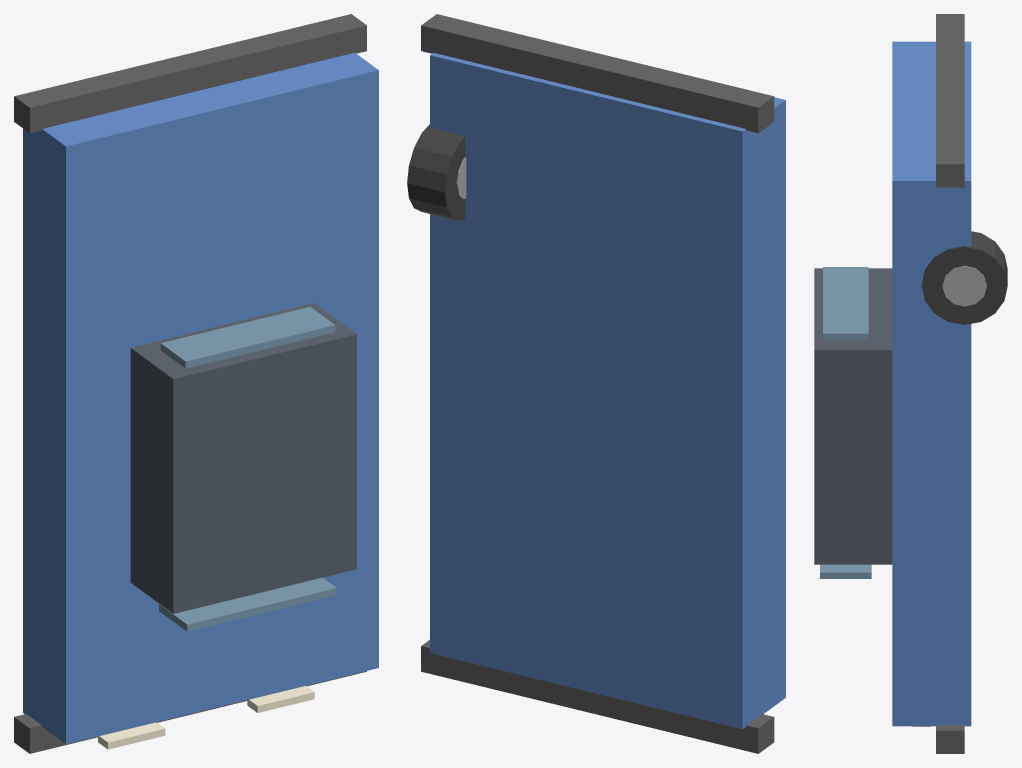
File: vehicle_blue_sedan.glb
The picture shows the model from 3 angles, left to right: view 1: azimuth 30°, elevation 25°; view 2: azimuth 150°, elevation 25°; view 3: azimuth 270°, elevation 25°; orthographic projection. The views are drawn at different scales.
Visible parts, largest first — view 1: body, dark_cabin, rear_bumper, rear_window, front_window, front_bumper, headlight_L, headlight_R; view 2: body, rear_bumper, front_bumper, wheel_tire; view 3: body, dark_cabin, rear_bumper, wheel_tire, rear_window, wheel_hub, front_bumper, front_window.
Part boxes in pixels (x1,y1,x2,y2): body: [23, 52, 378, 744]; dark_cabin: [130, 303, 356, 613]; rear_bumper: [14, 14, 366, 133]; rear_window: [160, 307, 335, 368]; front_window: [159, 577, 336, 631]; front_bumper: [14, 671, 366, 753]; headlight_L: [98, 722, 165, 749]; headlight_R: [247, 686, 314, 712]; body: [430, 52, 785, 729]; rear_bumper: [421, 14, 774, 133]; front_bumper: [421, 640, 774, 753]; wheel_tire: [407, 124, 465, 220]; body: [892, 41, 971, 726]; dark_cabin: [814, 268, 892, 564]; rear_bumper: [936, 14, 964, 187]; wheel_tire: [921, 231, 1007, 324]; rear_window: [823, 267, 868, 339]; wheel_hub: [942, 265, 986, 306]; front_bumper: [936, 725, 964, 753]; front_window: [820, 564, 871, 578].
Bounding box in the file's own units: 2.48 × 4.56 × 1.35.
